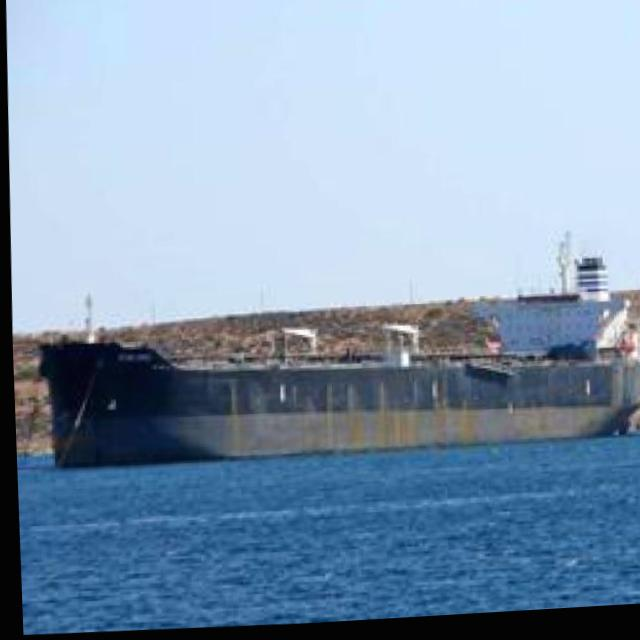ship2: (31, 234, 640, 471)
